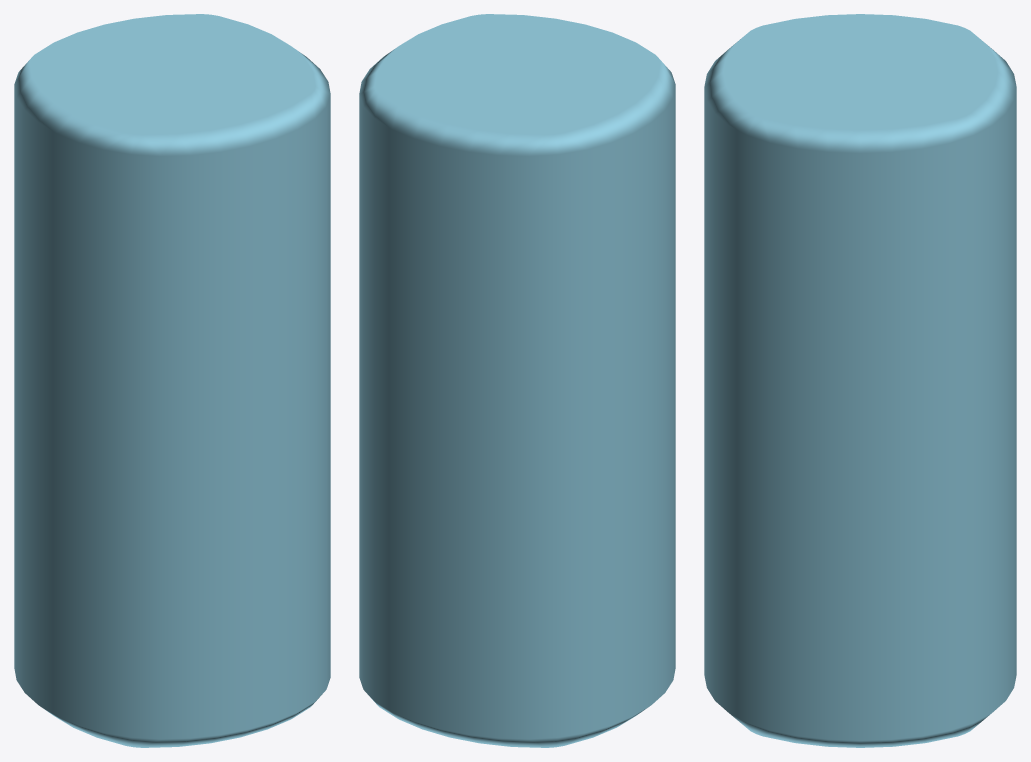
File: 1x2x1_Round.fbx
3 renders of one model, left to right at view 1: azimuth 30°, elevation 25°; view 2: azimuth 150°, elevation 25°; view 3: azimuth 270°, elevation 25°, orthographic.
Visible parts, largest first — view 1: 1x2x1_Round; view 2: 1x2x1_Round; view 3: 1x2x1_Round.
Boxes of the visible parts, box(x1,y1,x2,y2) form: 1x2x1_Round: box(14, 14, 330, 747); 1x2x1_Round: box(359, 14, 675, 747); 1x2x1_Round: box(704, 14, 1016, 747).
Bounding box in the file's own units: 0.0917 × 0.2 × 0.0917.
1 material, 1 textured.
